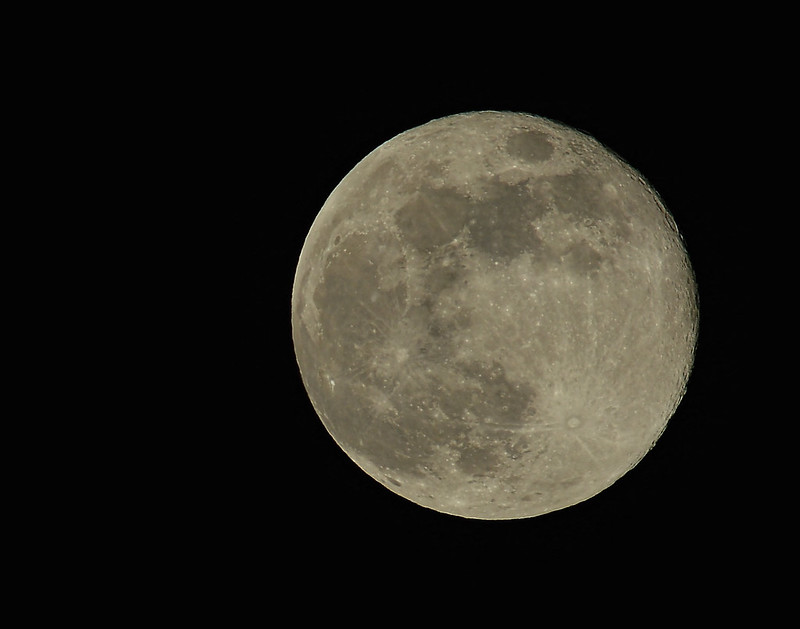crater: (383, 332, 418, 374), (555, 406, 593, 442), (588, 180, 624, 214), (361, 279, 388, 311), (522, 399, 543, 425), (328, 230, 348, 256), (489, 252, 507, 277), (401, 134, 425, 149), (472, 144, 489, 161), (581, 282, 596, 301), (503, 161, 522, 173), (444, 146, 461, 158), (510, 380, 524, 392), (583, 256, 595, 268), (488, 216, 500, 227)
